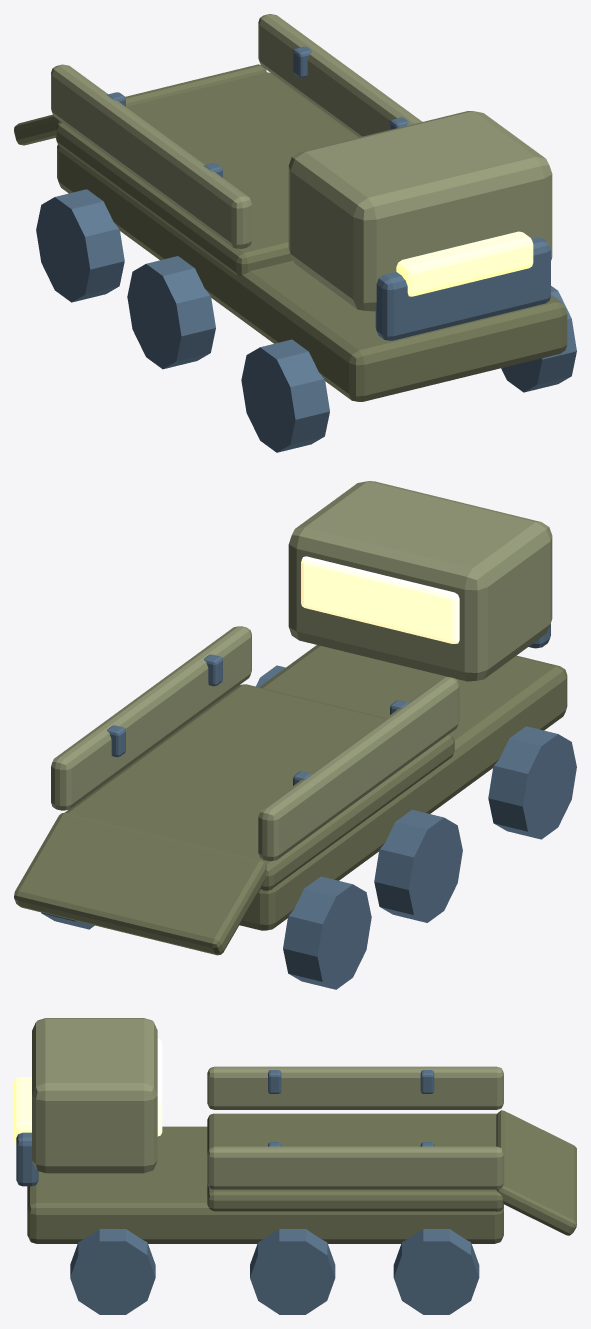
Rendered from com_carrier.glb.
3 views of the same model, one above another, from view 1: azimuth 30°, elevation 25°; view 2: azimuth 150°, elevation 25°; view 3: azimuth 270°, elevation 25° (orthographic). The views are drawn at different scales.
Visible parts, largest first — view 1: com_carrier; view 2: com_carrier; view 3: com_carrier.
Boxes of the visible parts, x1,y1,x2,y2 form: com_carrier: (14,14,576,452); com_carrier: (14,481,576,989); com_carrier: (14,1018,576,1314).
Size of the model in its own units: 0.57 by 0.5154 by 1.25.
